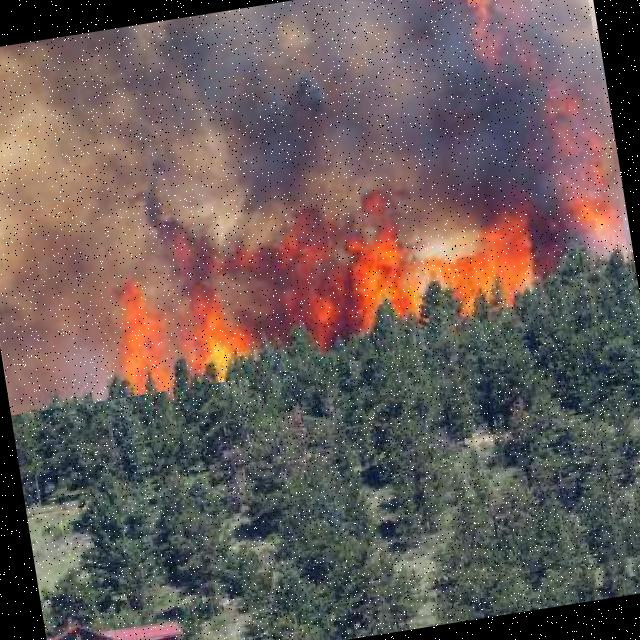fire: (0, 0, 638, 415)
